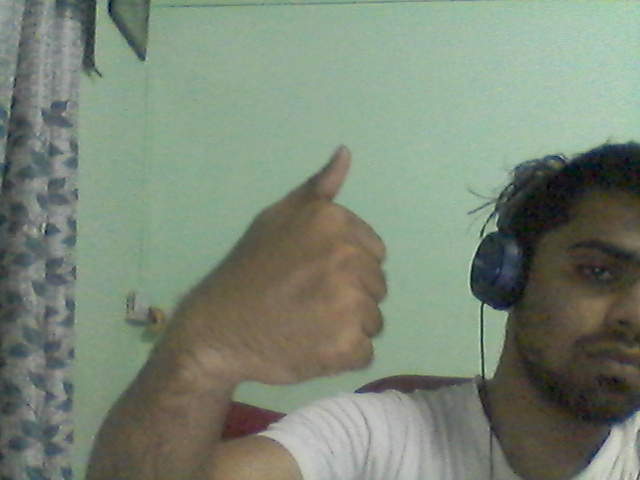Yes: (158, 121, 408, 402)
